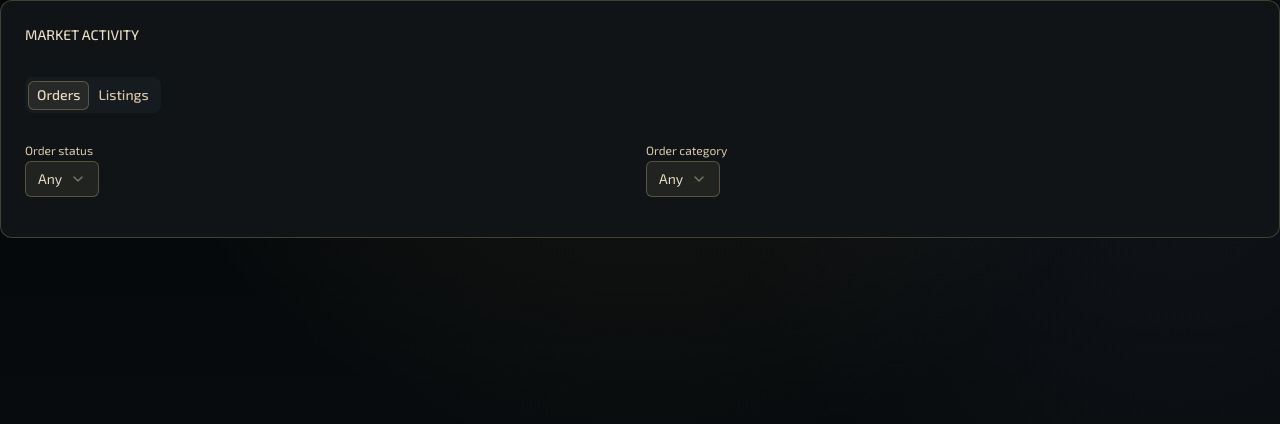
it: collection market panel › order_status_select_has_options
The width and height of the screenshot is (1280, 424).
Click the dropdown named "order status" at (62, 179), box [25,161,99,197]
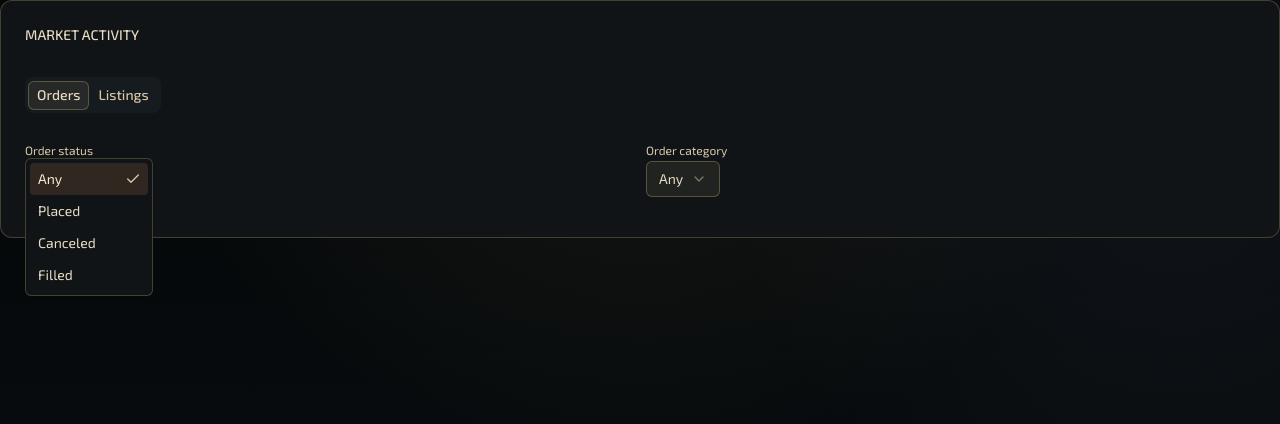
Check: the option "Placed" is shown, box [38,202,80,219]
Check: the option "Canceled" is shown, box [38,234,96,251]
Check: the option "Filled" is shown, box [38,266,73,283]
